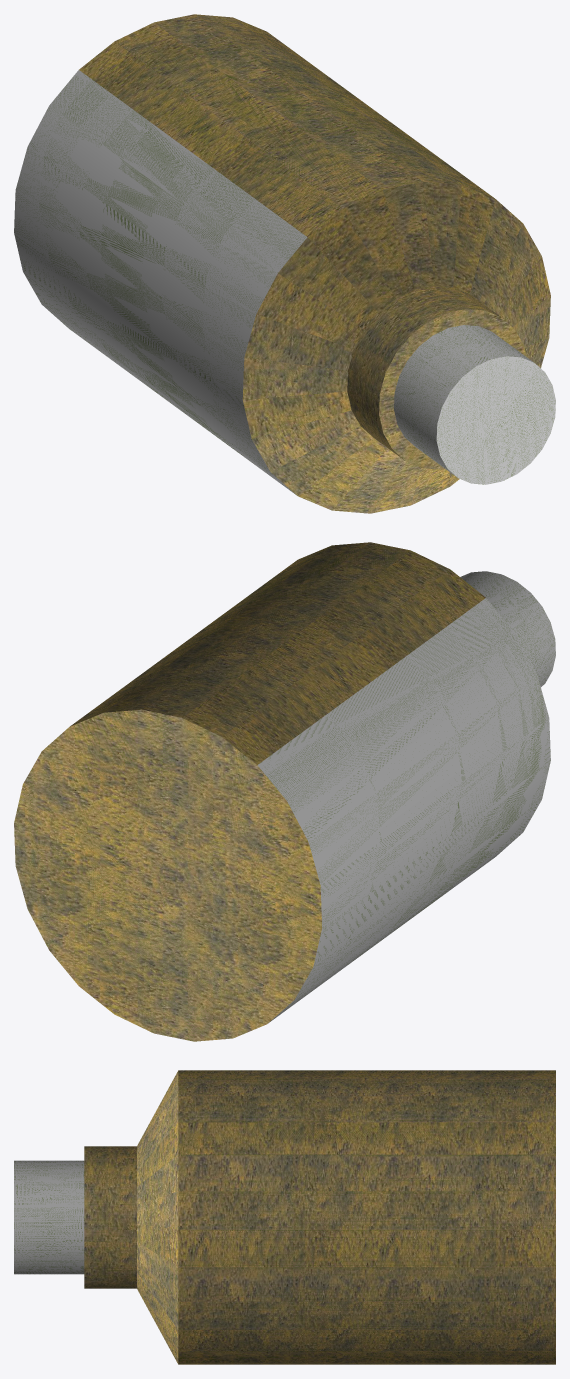
Rendered from model_align.obj.
3 renders of one model, top to bottom at view 1: azimuth 30°, elevation 25°; view 2: azimuth 150°, elevation 25°; view 3: azimuth 270°, elevation 25°, orthographic. The views are drawn at different scales.
Visible parts, largest first — view 1: mesh1_mesh1-geometry; view 2: mesh1_mesh1-geometry; view 3: mesh1_mesh1-geometry.
Boxes of the visible parts, left/top/right/bottom form: mesh1_mesh1-geometry: left=14, top=14, right=555, bottom=513; mesh1_mesh1-geometry: left=14, top=542, right=555, bottom=1041; mesh1_mesh1-geometry: left=14, top=1070, right=555, bottom=1364.
Bounding box in the file's own units: 0.1134 × 0.1134 × 0.2091.
